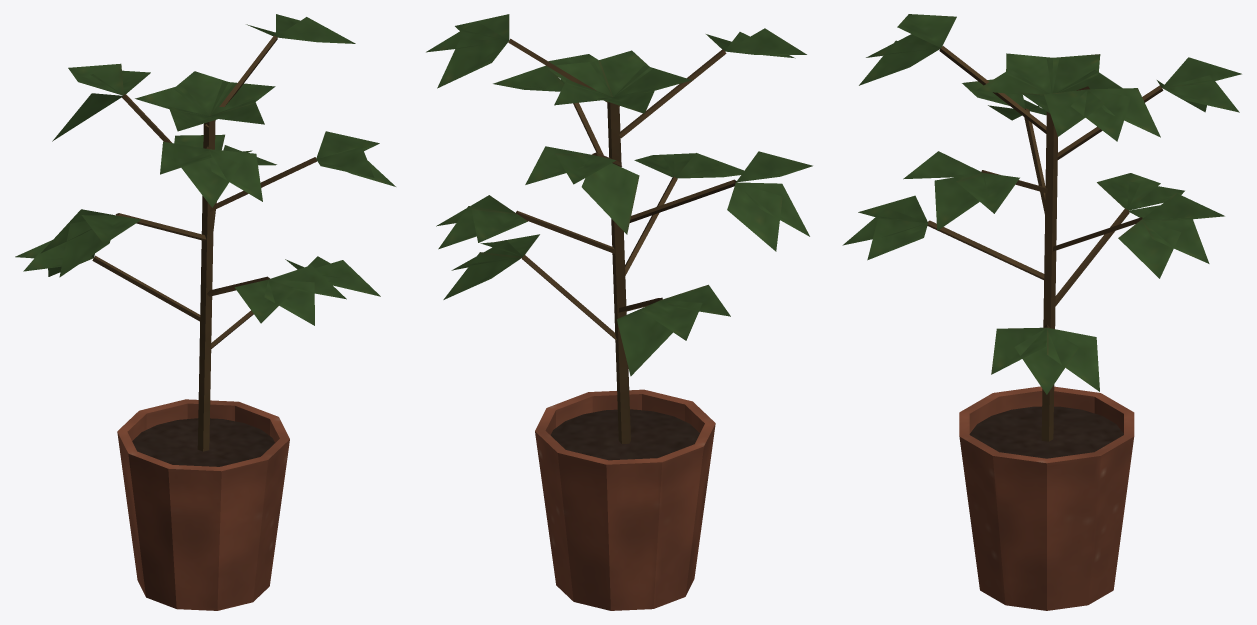
File: Plant_Ficus.fbx
The picture shows the model from 3 angles, left to right: view 1: azimuth 30°, elevation 25°; view 2: azimuth 150°, elevation 25°; view 3: azimuth 270°, elevation 25°; orthographic projection. The views are drawn at different scales.
Parts seen in each view (by area): view 1: растение; view 2: растение; view 3: растение.
Part boxes in pixels (left/top/right/bottom): растение: left=15, top=14, right=395, bottom=610; растение: left=426, top=14, right=812, bottom=610; растение: left=842, top=14, right=1241, bottom=610.
Size of the model in its own units: 0.7391 by 1.11 by 0.7404.
1 material, 1 textured.
